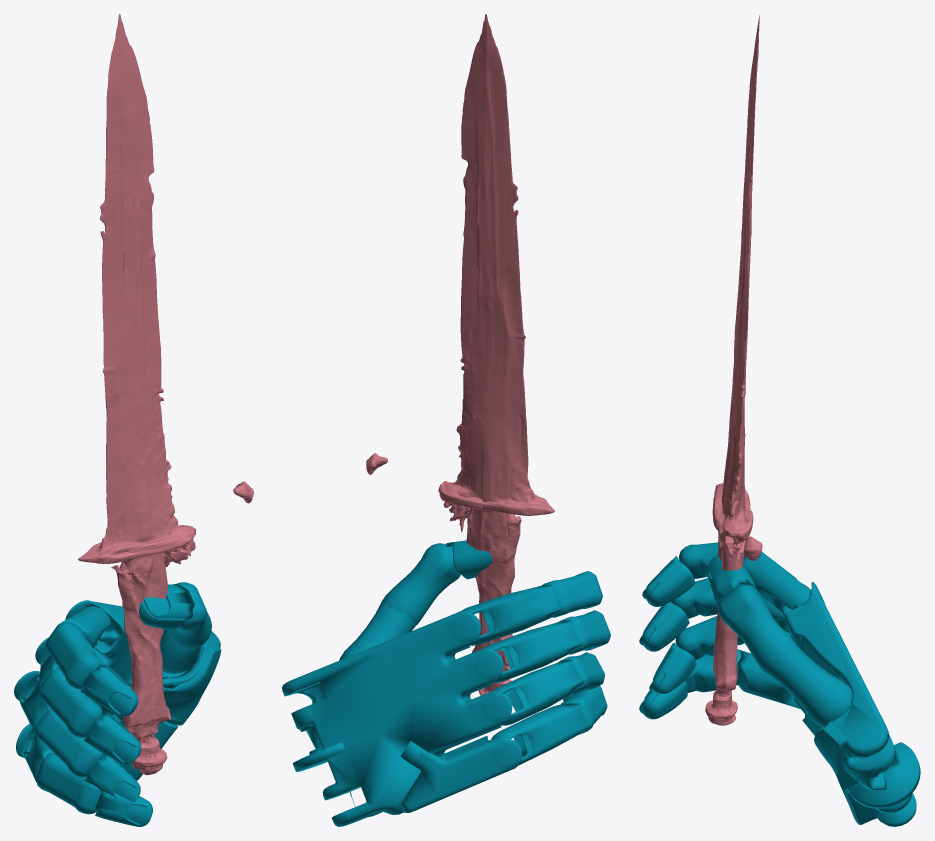
3 views of the same model, side by side, from view 1: azimuth 30°, elevation 25°; view 2: azimuth 150°, elevation 25°; view 3: azimuth 270°, elevation 25° (orthographic). The views are drawn at different scales.
Parts seen in each view (by area): view 1: world; view 2: world; view 3: world.
Boxes of the visible parts, x1,y1,x2,y2 form: world: (14, 14, 253, 826); world: (282, 14, 610, 826); world: (639, 15, 920, 826).
Size of the model in its own units: 0.1408 by 0.4413 by 0.1446.
